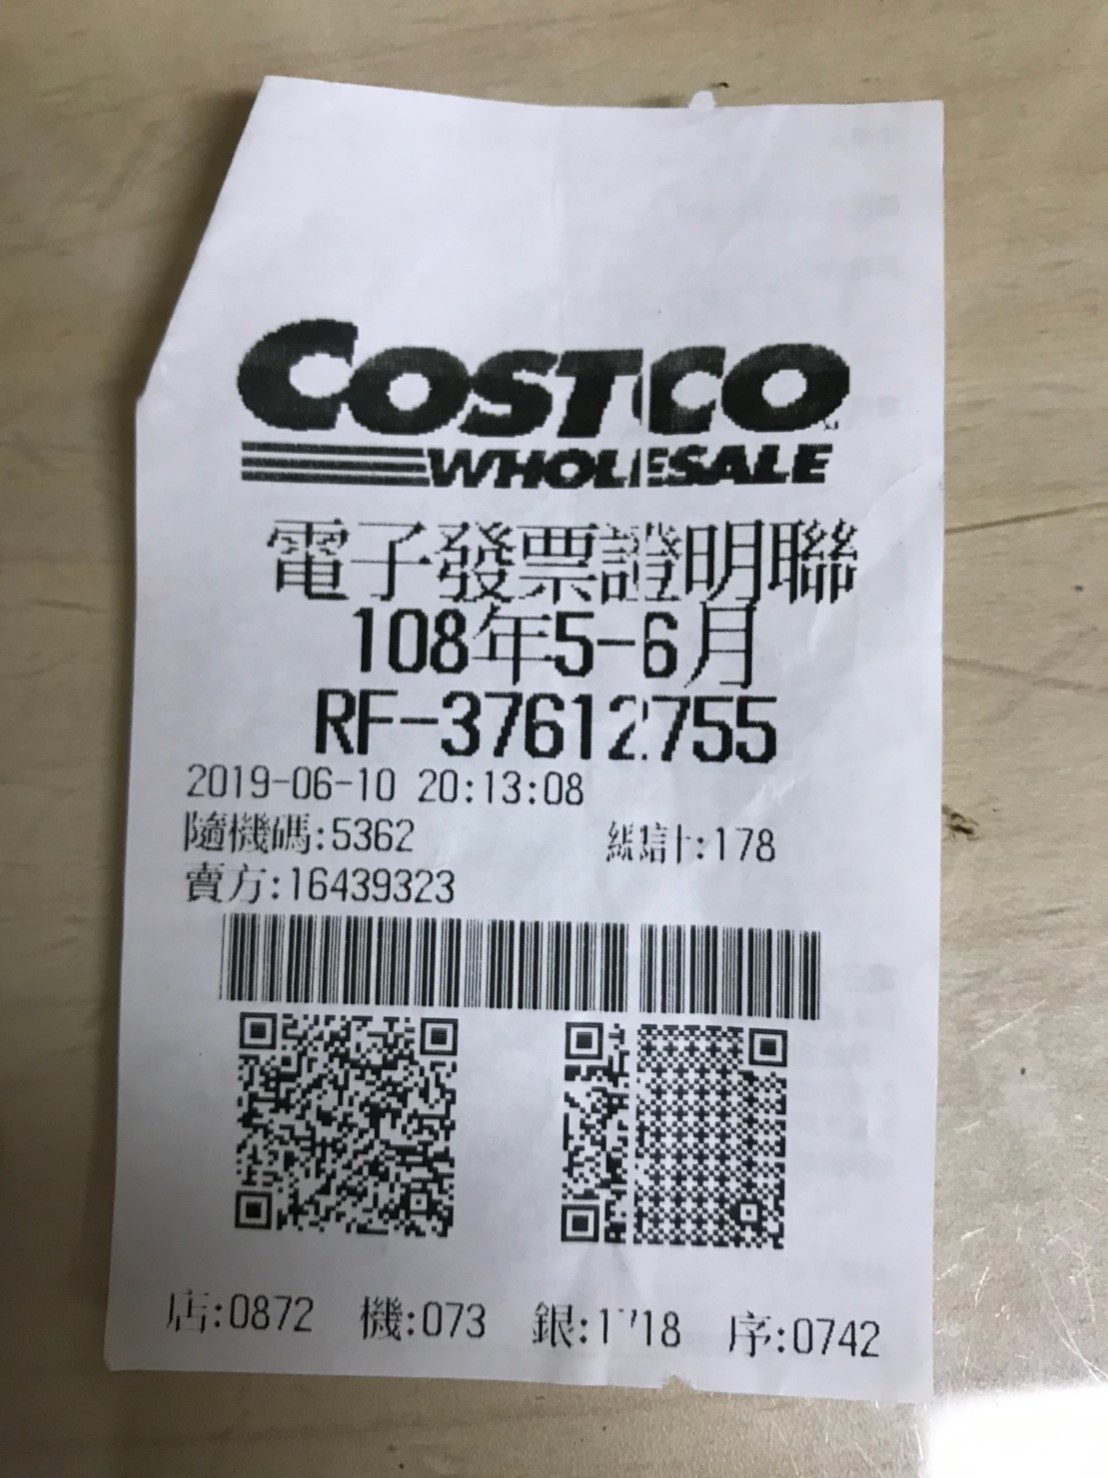Date_New: (351, 603, 754, 684)
Number_New: (439, 690, 783, 765)
